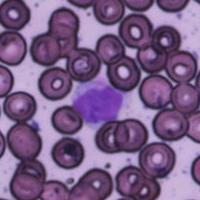M: (70, 78, 131, 129)
